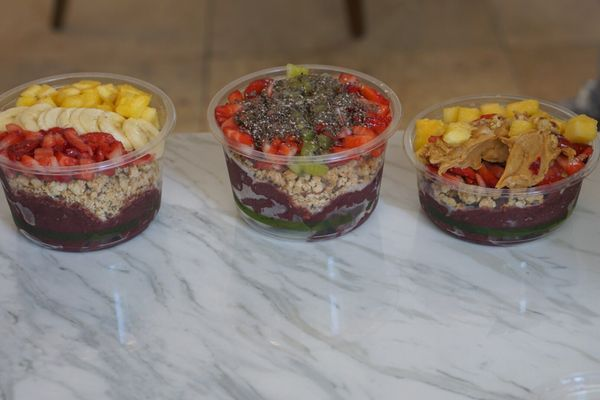sushi: (207, 61, 403, 241), (0, 70, 177, 253), (403, 96, 599, 245)
